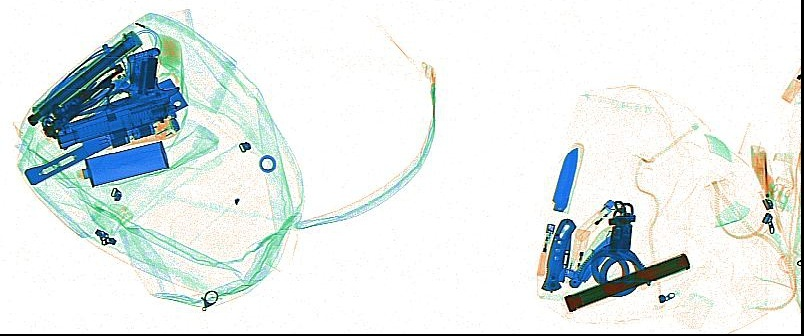handcuffs: (574, 198, 652, 299), (40, 60, 124, 141)
knife: (22, 76, 189, 185), (540, 217, 576, 291), (552, 142, 585, 213)
lighter: (573, 197, 620, 243), (563, 227, 589, 279), (535, 222, 556, 277)
zippooil: (79, 139, 170, 187)
